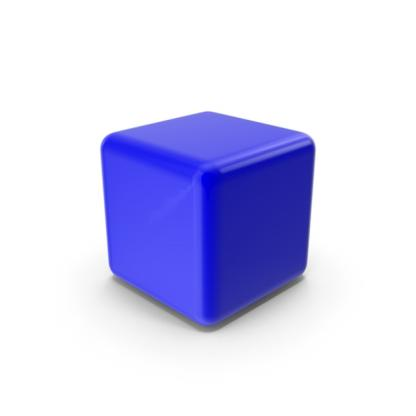blue_block: (79, 74, 353, 351)
